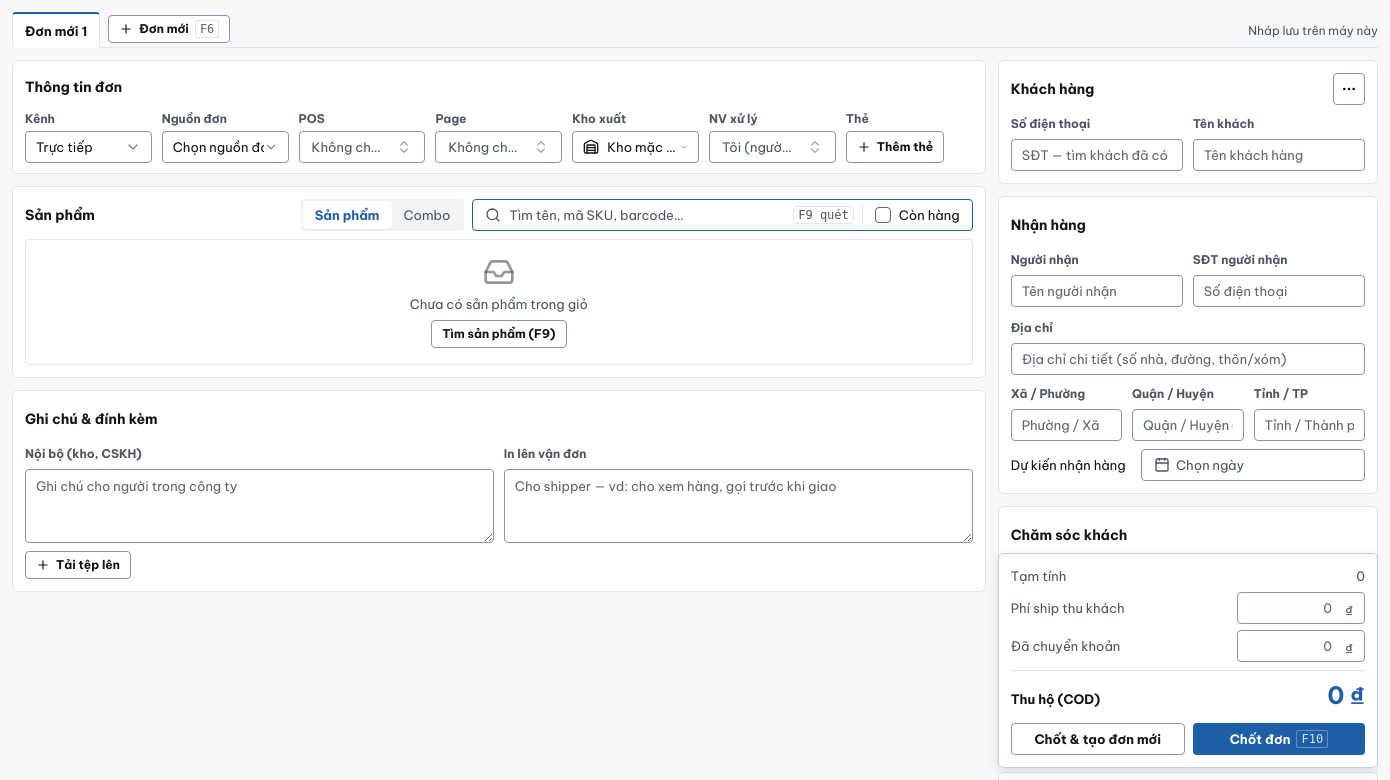
OrderCreateScreen — màn tạo đơn mới › tìm sản phẩm → thêm vào giỏ; quét lại đúng mã + Enter → cùng dòng +1
This screenshot has width=1390, height=780.
Type "amino" into the dropdown named "Tìm sản phẩm" at point(647, 215), box [509, 199, 785, 231]
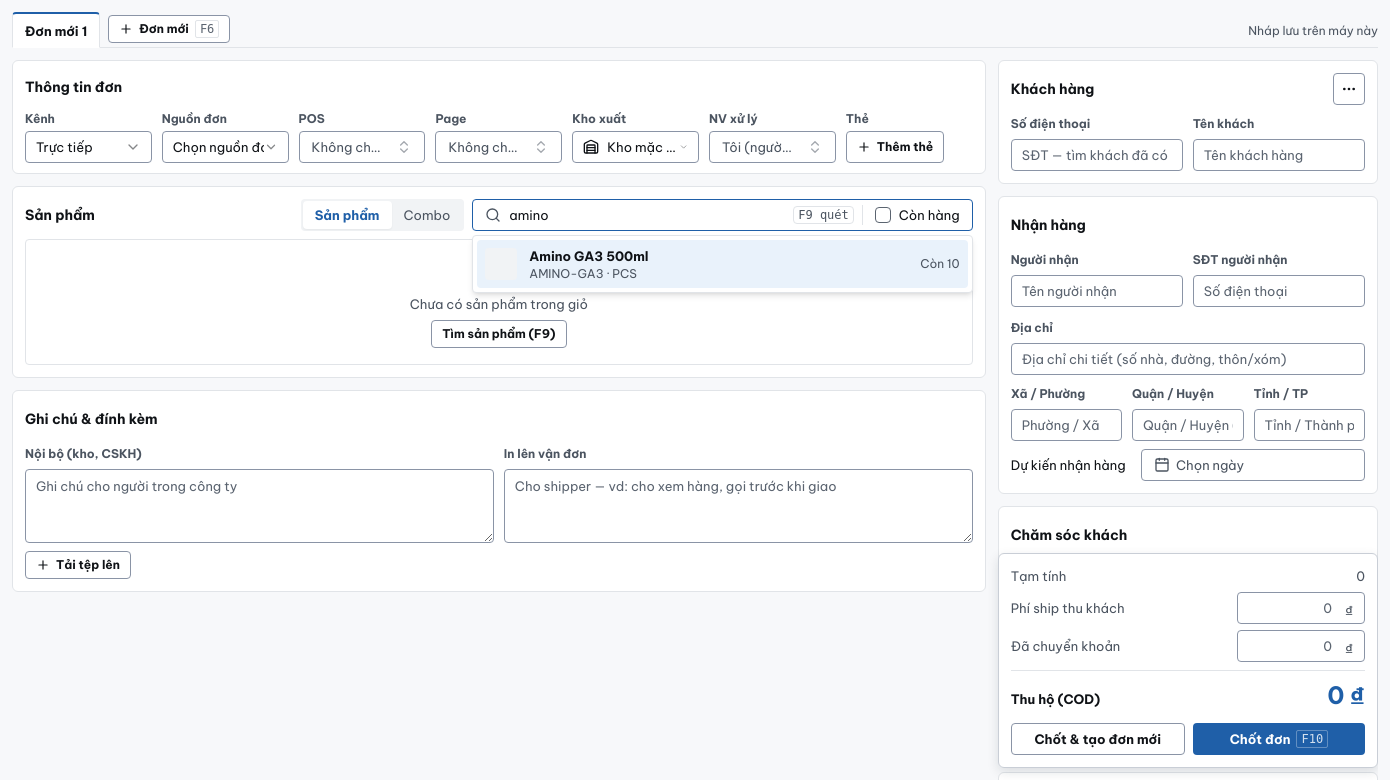
Click the option "Amino GA3 500ml AMINO-GA3 · PCS Còn 10" at point(501, 264), box [477, 240, 968, 288]
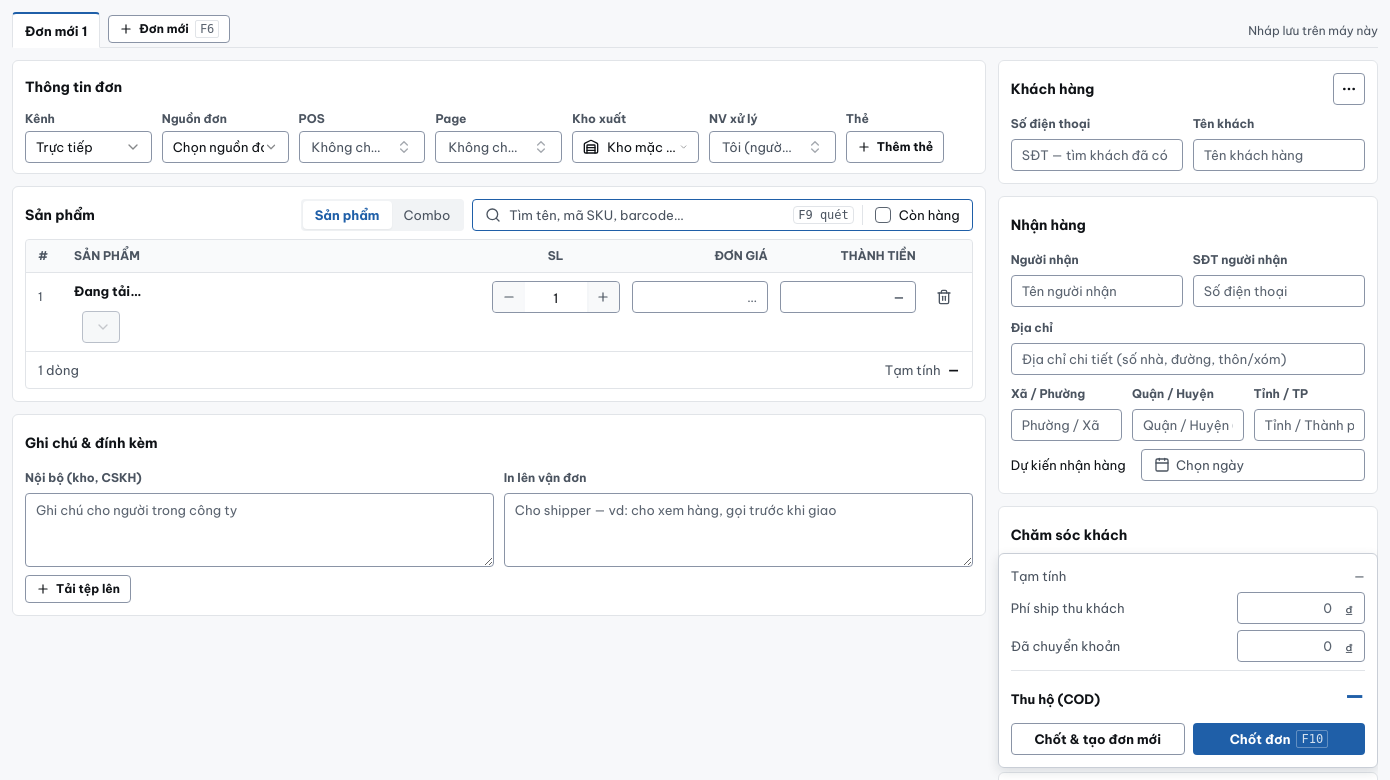
Expected: the number of fields named "Số lượng" is 1, [525, 282, 587, 313]
Expected: the field named "Số lượng" holds "1", [525, 282, 587, 313]
# Máy quét: gõ mã rồi Enter ngay (chưa chờ kết quả) → khớp đúng mã → +1 vào dòng cũ.
Type "AMINO-GA3" into the dropdown named "Tìm sản phẩm" at point(647, 215), box [509, 199, 785, 231]
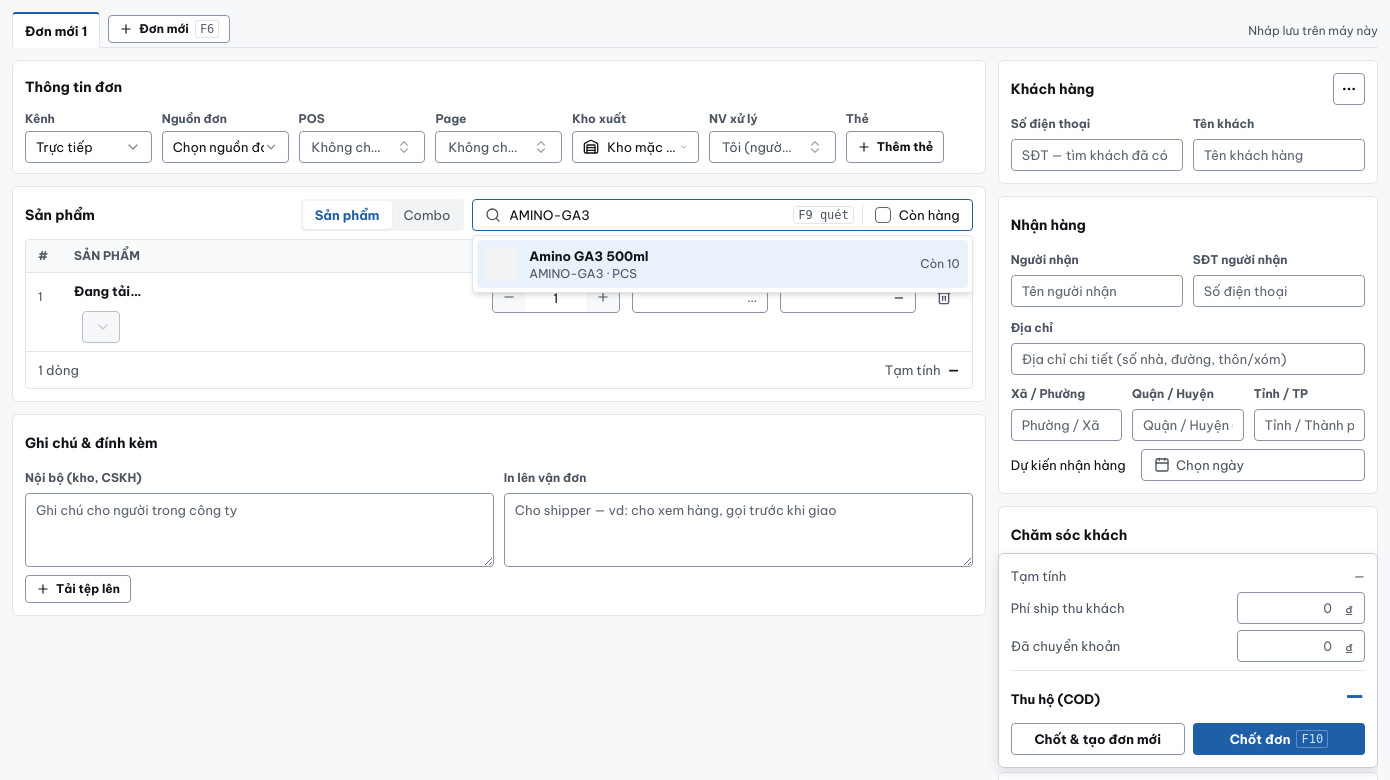
Press Enter in the dropdown named "Tìm sản phẩm", box [509, 199, 785, 231]
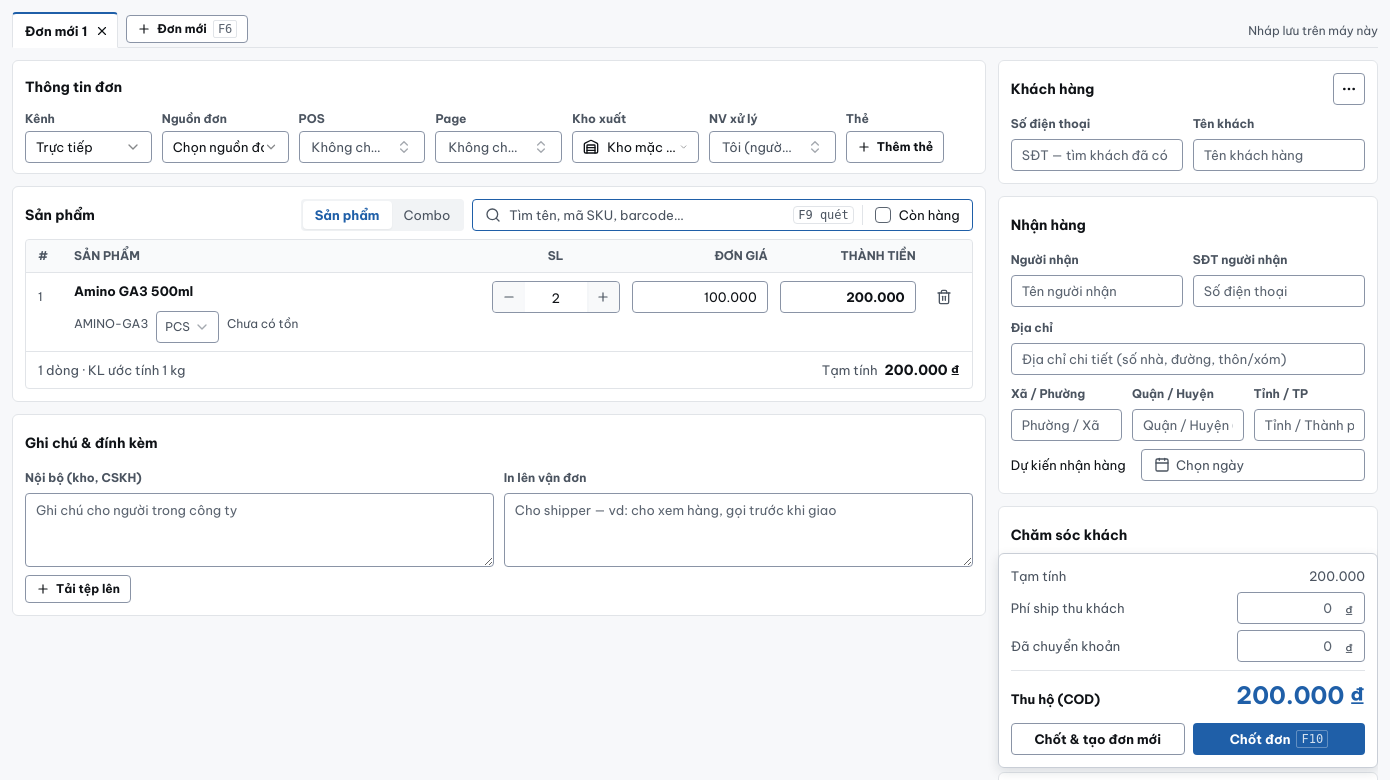
Expected: the number of fields named "Số lượng" is 1, [525, 282, 587, 313]
Expected: the field named "Số lượng" holds "2", [525, 282, 587, 313]
